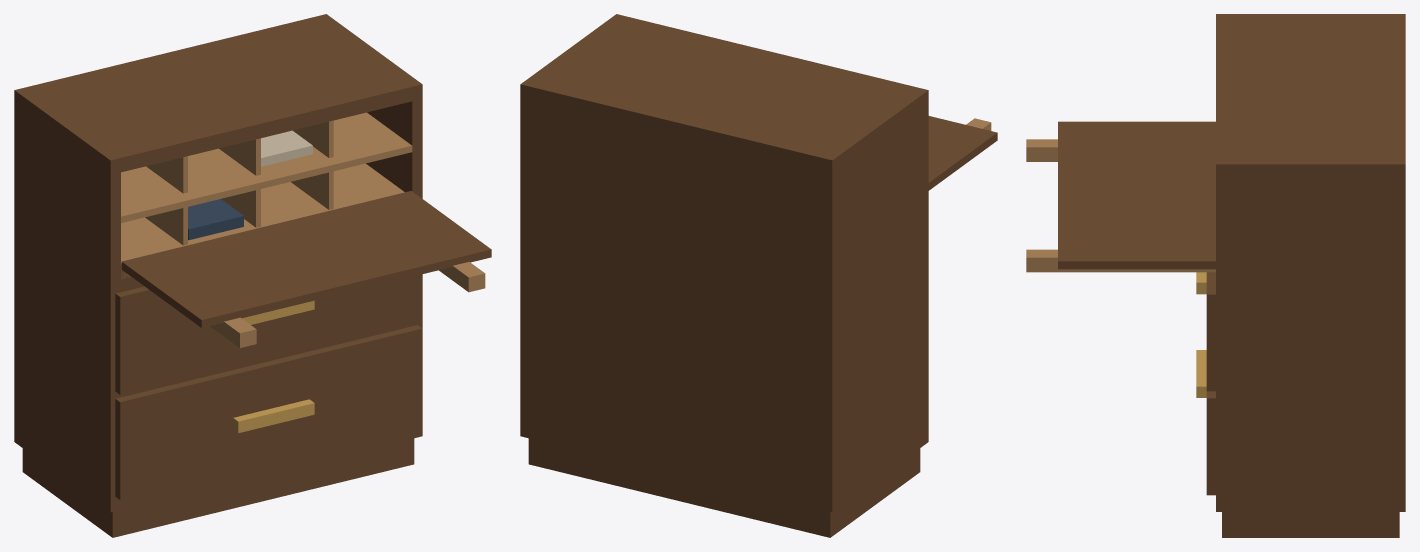
Rendered from FN_Desk_Bureau.glb.
The picture shows the model from 3 angles, left to right: view 1: azimuth 30°, elevation 25°; view 2: azimuth 150°, elevation 25°; view 3: azimuth 270°, elevation 25°; orthographic projection.
Visible parts, largest first — view 1: FN_Desk_Bureau; view 2: FN_Desk_Bureau; view 3: FN_Desk_Bureau.
Part boxes in pixels (x1,y1,x2,y2): FN_Desk_Bureau: [14, 14, 491, 537]; FN_Desk_Bureau: [520, 14, 997, 537]; FN_Desk_Bureau: [1026, 14, 1405, 537].
Size of the model in its own units: 0.9 by 1.05 by 0.96.
1 material, 1 textured.
